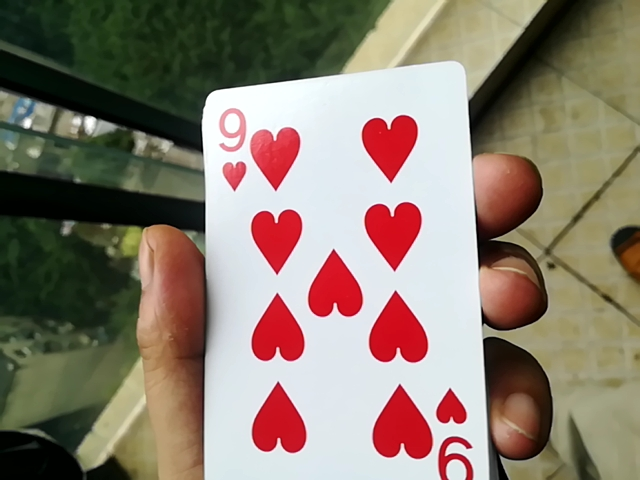hx 9: (178, 64, 483, 480)
